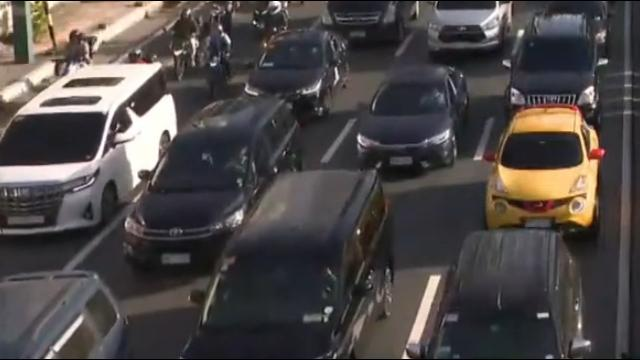car: (122, 101, 300, 272), (405, 229, 593, 360), (485, 102, 606, 240), (354, 65, 471, 173), (501, 13, 608, 126), (3, 269, 127, 355), (244, 27, 351, 121), (428, 0, 516, 53), (320, 2, 420, 46)
motorcycle: (170, 10, 205, 82), (56, 31, 100, 85), (204, 22, 233, 95), (252, 1, 290, 48)
van: (177, 170, 395, 359), (0, 63, 177, 240)
